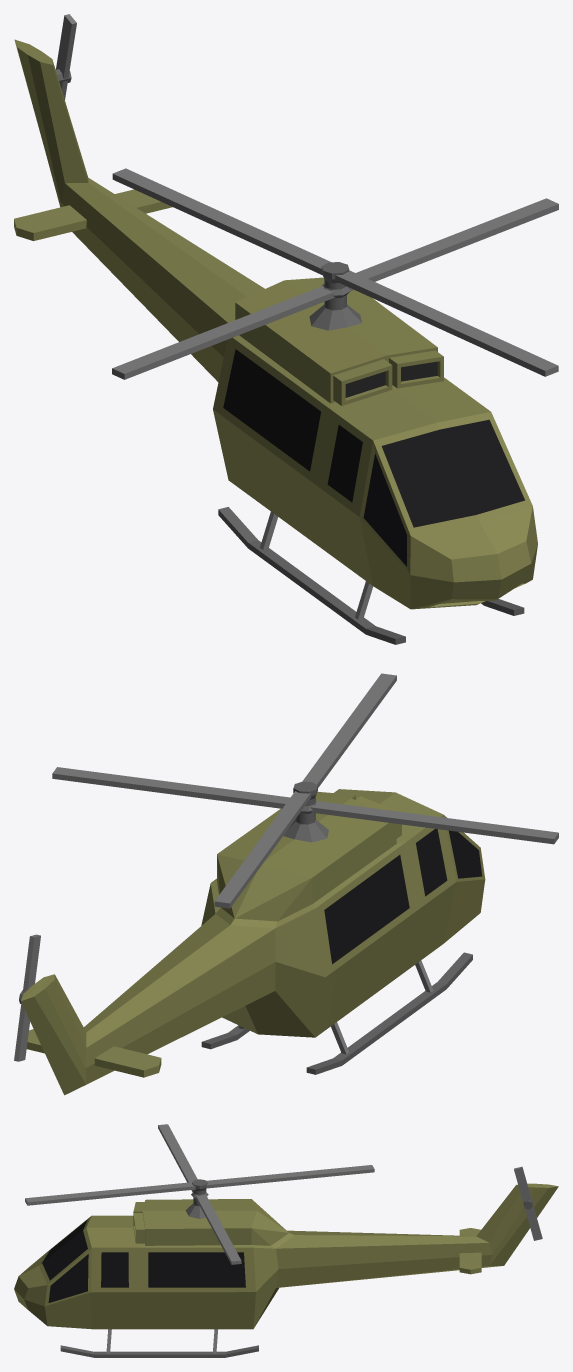
Rendered from Helicopter_01.fbx.
3 views of the same model, one above another, from view 1: azimuth 30°, elevation 25°; view 2: azimuth 150°, elevation 25°; view 3: azimuth 270°, elevation 25° (orthographic). The views are drawn at different scales.
Parts seen in each view (by area): view 1: Helicopter_01, Helicopter_01_Prop_R; view 2: Helicopter_01, Helicopter_01_Prop_R; view 3: Helicopter_01, Helicopter_01_Prop_R.
Part boxes in pixels (<box>): Helicopter_01: <box>14,39,558,644</box>; Helicopter_01_Prop_R: <box>55,14,76,99</box>; Helicopter_01: <box>21,673,558,1095</box>; Helicopter_01_Prop_R: <box>14,934,40,1061</box>; Helicopter_01: <box>14,1124,558,1357</box>; Helicopter_01_Prop_R: <box>514,1166,542,1240</box>.
Size of the model in its own units: 10.38 by 6.28 by 17.39.
